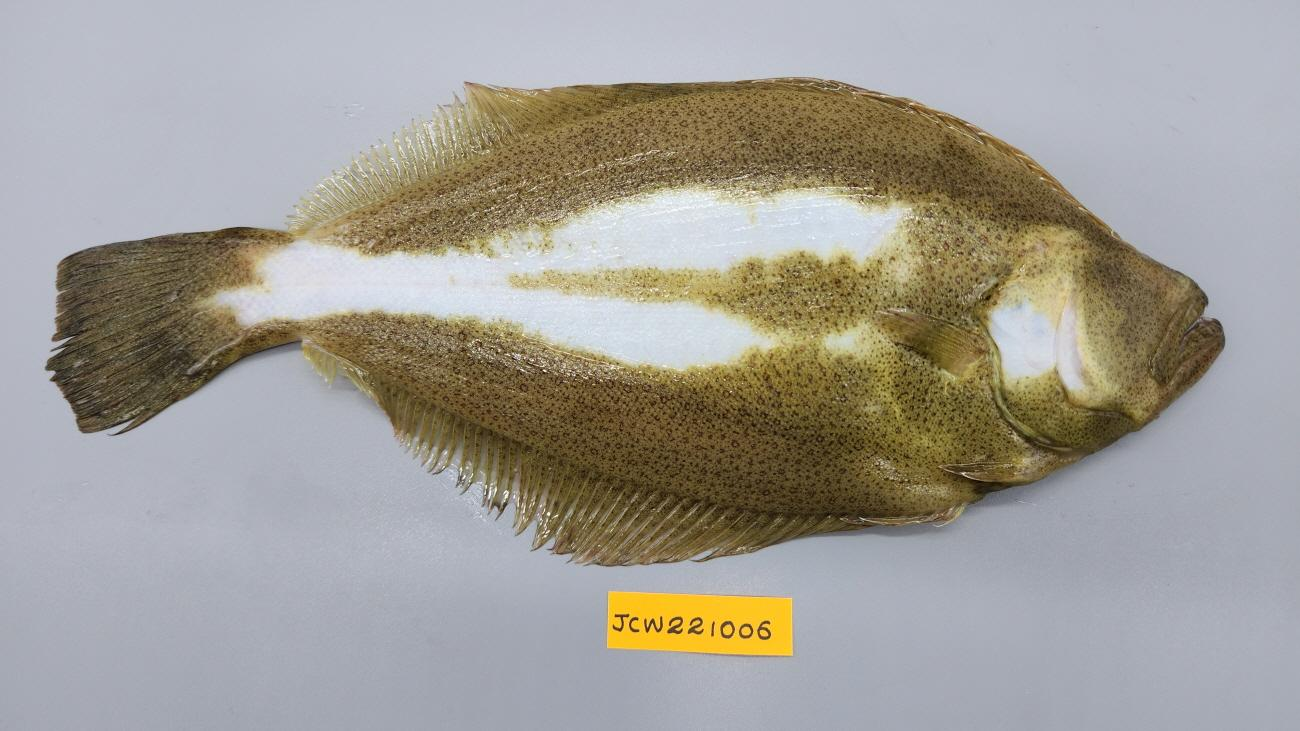POOUN: (44, 78, 1226, 568)
